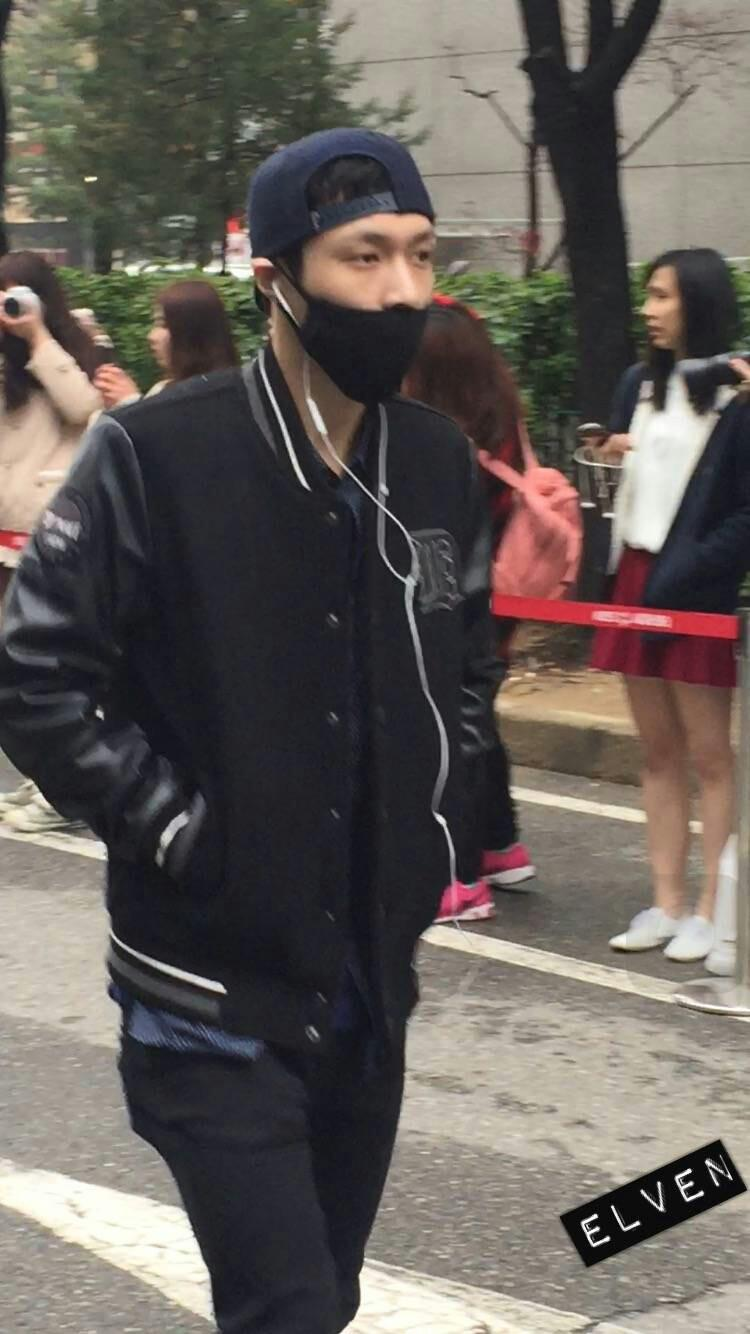NONE: (638, 280, 703, 351), (147, 314, 193, 370)
WRONG: (276, 217, 451, 392)
